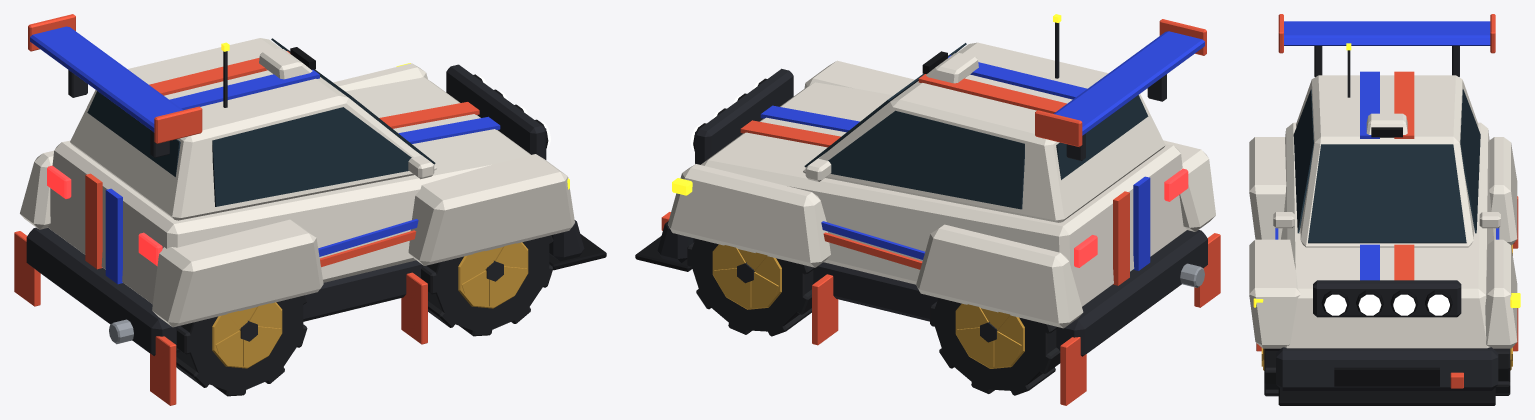
File: car-display.glb
3 renders of one model, left to right at view 1: azimuth 30°, elevation 25°; view 2: azimuth 150°, elevation 25°; view 3: azimuth 270°, elevation 25°, orthographic. The views are drawn at different scales.
Visible parts, largest first — view 1: bodyPainted, cabin, flare0.92-1, flare-0.92-1, sideWindow-1, bumperRear, pv_wheel3.001, pv_wheel1.001, wingBlade, sills, lightPodPlate, rearWindow (+23 smaller); view 2: bodyPainted, cabin, sideWindow1, flare-0.921, flare0.921, bumperRear, pv_wheel2.001, pv_wheel0.001, wingBlade, sills, lightPodPlate, flare-0.92-1 (+23 smaller); view 3: bodyPainted, windshield, cabin, bumperFront, wingBlade, flare0.92-1, lightPodPlate, flare-0.92-1, splitter, flare0.921, flare-0.921, grilleMesh (+17 smaller).
Part boxes in pixels (<box>): bodyPainted: <box>47,77,530,304</box>; cabin: <box>70,38,436,220</box>; flare0.92-1: <box>408,154,574,265</box>; flare-0.92-1: <box>152,219,323,327</box>; sideWindow-1: <box>212,107,411,206</box>; bumperRear: <box>26,227,177,355</box>; pv_wheel3.001: <box>176,295,307,396</box>; pv_wheel1.001: <box>421,235,553,336</box>; wingBlade: <box>30,26,182,132</box>; sills: <box>176,260,426,352</box>; lightPodPlate: <box>446,64,546,159</box>; rearWindow: <box>87,91,180,176</box>; bodyPainted: <box>700,82,1187,306</box>; cabin: <box>803,42,1165,222</box>; sideWindow1: <box>828,110,1024,209</box>; flare-0.921: <box>916,224,1083,328</box>; flare0.921: <box>667,164,830,267</box>; bumperRear: <box>1058,230,1207,356</box>; pv_wheel2.001: <box>930,298,1060,395</box>; pv_wheel0.001: <box>687,239,816,336</box>; wingBlade: <box>1053,31,1204,135</box>; sills: <box>693,238,1058,348</box>; lightPodPlate: <box>695,68,793,164</box>; flare-0.92-1: <box>1163,140,1215,231</box>; bodyPainted: <box>1281,122,1494,348</box>; windshield: <box>1308,144,1466,243</box>; cabin: <box>1296,75,1478,247</box>; bumperFront: <box>1276,347,1498,390</box>; wingBlade: <box>1284,21,1490,45</box>; flare0.92-1: <box>1249,239,1300,348</box>; lightPodPlate: <box>1313,280,1461,317</box>; flare-0.92-1: <box>1249,137,1286,239</box>; splitter: <box>1278,387,1495,405</box>; flare0.921: <box>1485,239,1517,348</box>; flare-0.921: <box>1489,137,1517,245</box>; grilleMesh: <box>1334,367,1439,386</box>.
Size of the model in its own units: 3.43 by 2.15 by 2.05.
